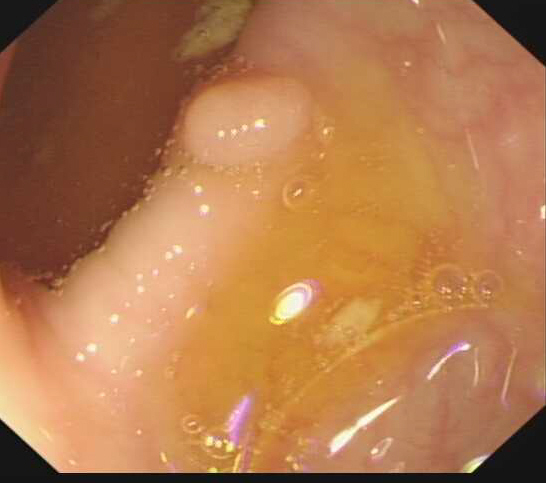others: (177, 73, 317, 173)
